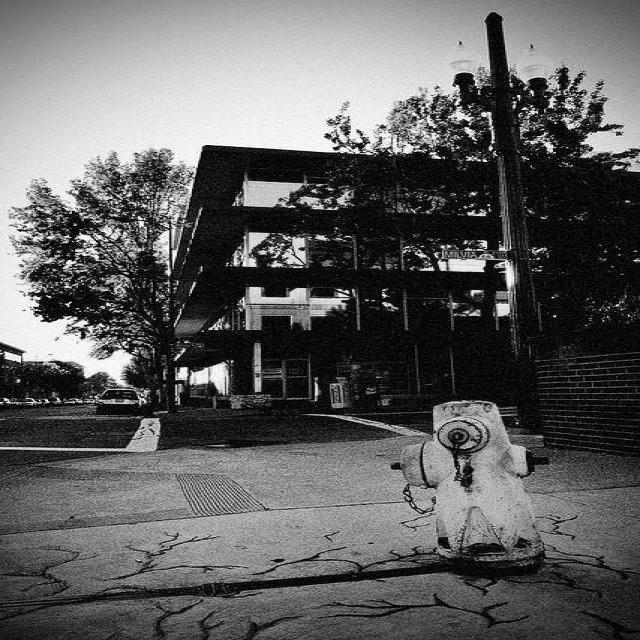vehicle: (94, 389, 146, 413), (24, 397, 39, 407), (2, 398, 19, 406), (50, 397, 64, 405), (36, 399, 50, 405)
